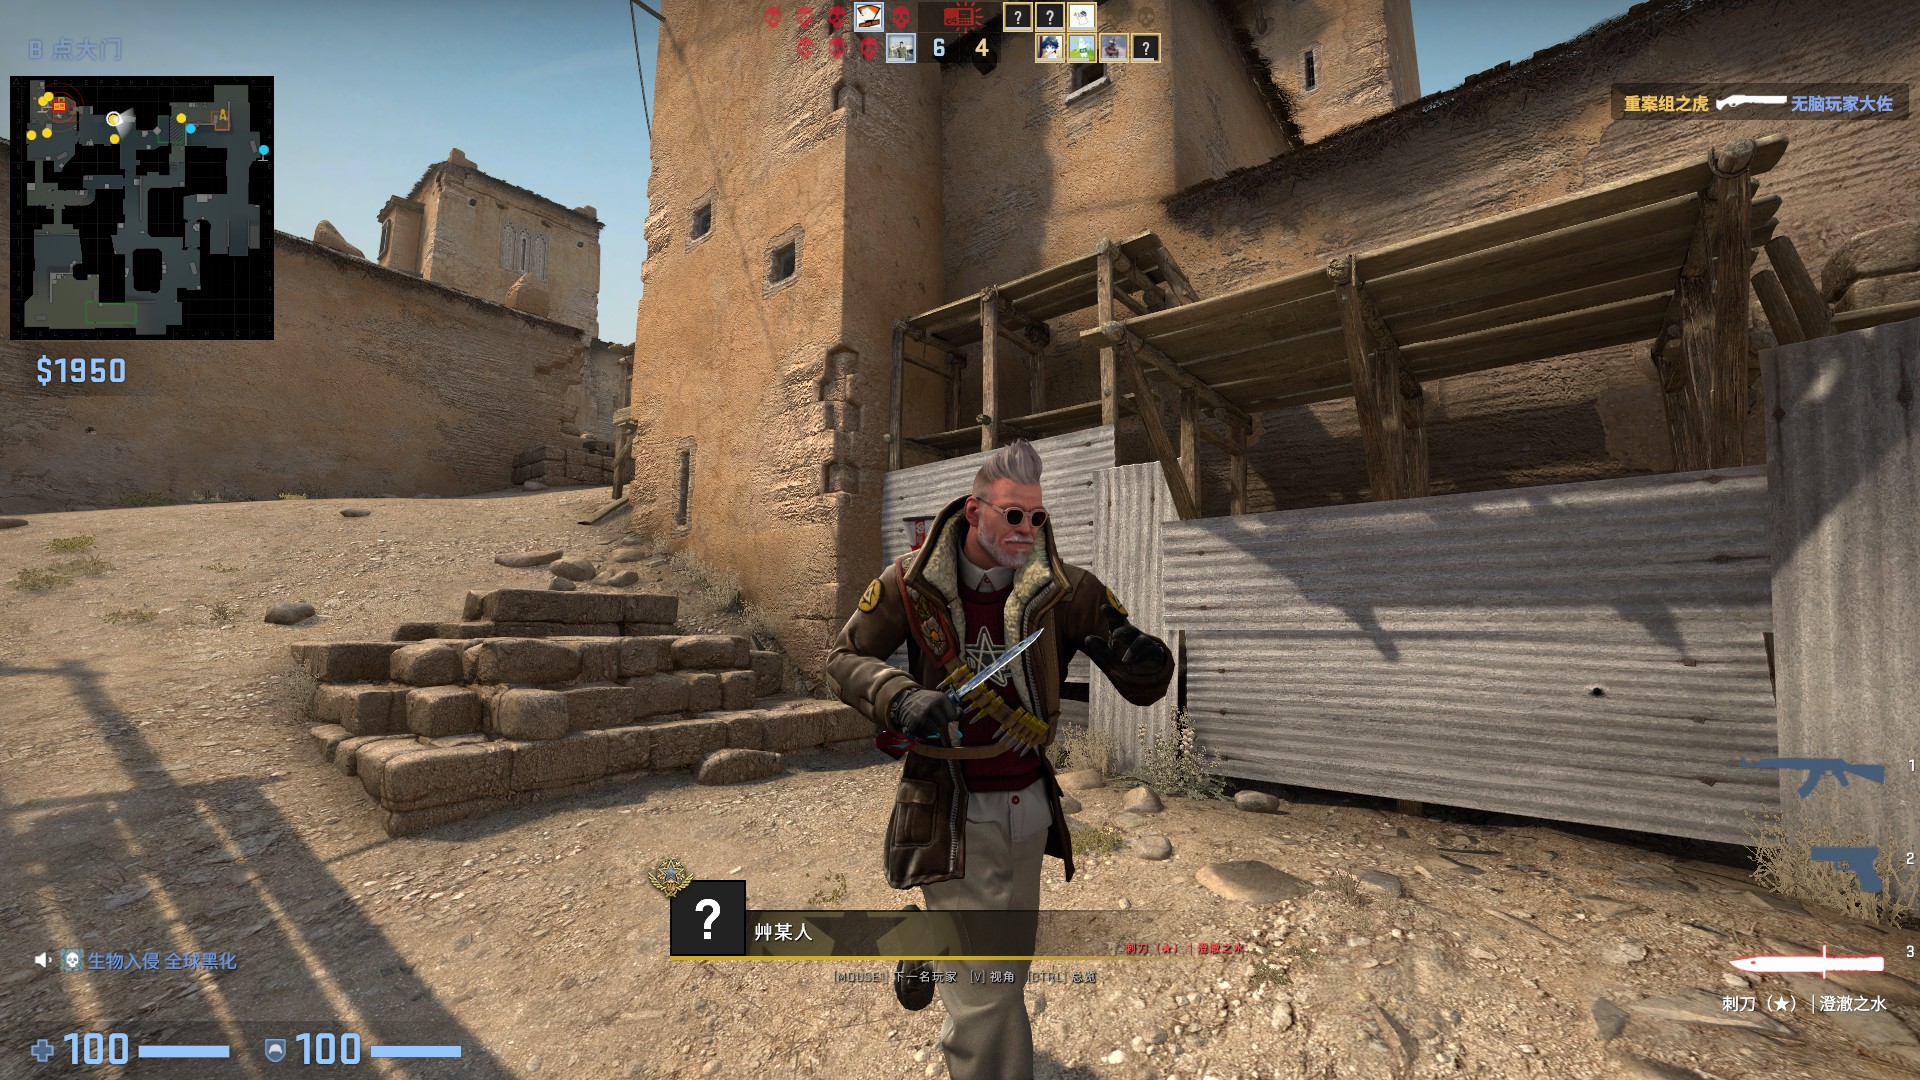head: (965, 445, 1043, 565)
